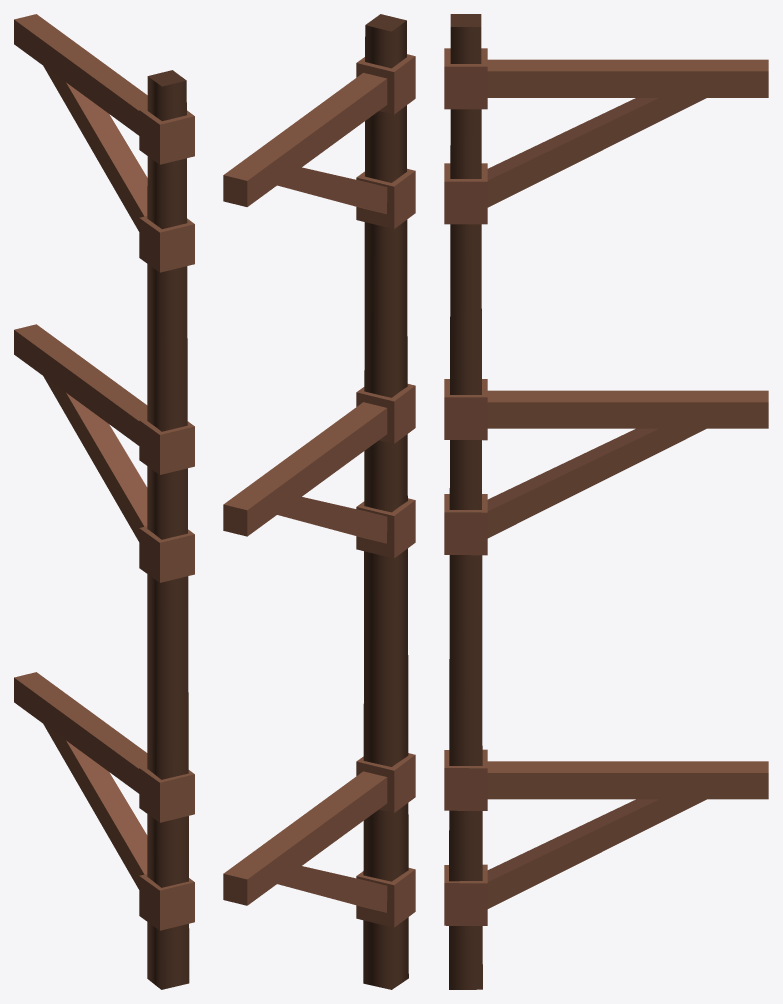
File: SignHolder_5_C.fbx
3 views of the same model, side by side, from view 1: azimuth 30°, elevation 25°; view 2: azimuth 150°, elevation 25°; view 3: azimuth 270°, elevation 25° (orthographic). The views are drawn at different scales.
Parts seen in each view (by area): view 1: SignHolder_5_C; view 2: SignHolder_5_C; view 3: SignHolder_5_C.
Boxes of the visible parts, <box> form: SignHolder_5_C: <box>14,14,194,989</box>; SignHolder_5_C: <box>223,14,415,989</box>; SignHolder_5_C: <box>444,14,768,989</box>.
Size of the model in its own units: 8.95 by 217 by 66.26.
